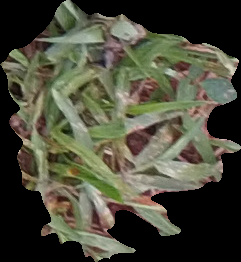grass: (1, 1, 239, 261)
